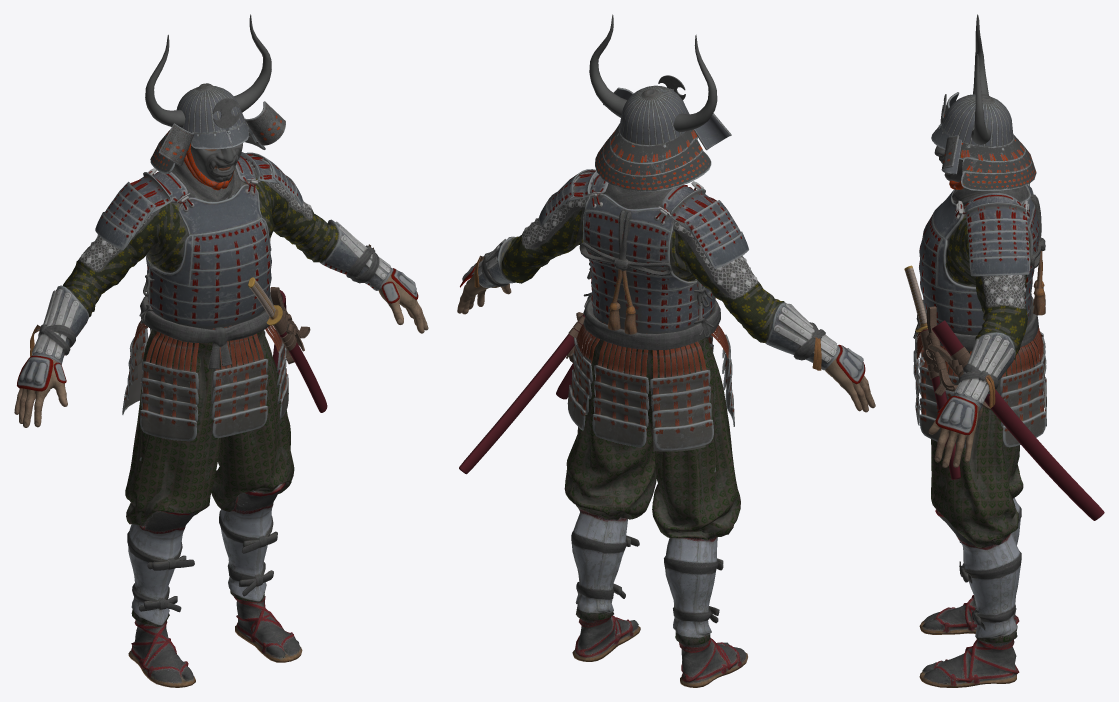
The model's file is Samurai.fbx.
3 views of the same model, side by side, from view 1: azimuth 30°, elevation 25°; view 2: azimuth 150°, elevation 25°; view 3: azimuth 270°, elevation 25° (orthographic). The views are drawn at different scales.
Parts seen in each view (by area): view 1: Torso, Legs, Skirt, Helmet, Sword, Hands; view 2: Torso, Legs, Skirt, Helmet, Sword, Hands; view 3: Torso, Legs, Helmet, Sword, Skirt, Hands.
Boxes of the visible parts, x1,y1,x2,y2 form: Torso: (17, 152, 418, 391); Legs: (125, 329, 302, 687); Skirt: (30, 244, 373, 441); Helmet: (145, 14, 285, 190); Sword: (248, 277, 327, 412); Hands: (14, 273, 428, 427); Torso: (460, 169, 865, 384); Legs: (564, 337, 747, 687); Skirt: (474, 255, 821, 451); Helmet: (589, 14, 731, 191); Sword: (459, 312, 590, 474); Hands: (457, 274, 875, 412); Torso: (913, 183, 1045, 434); Legs: (919, 344, 1030, 687); Helmet: (931, 14, 1036, 190); Sword: (904, 265, 1104, 520); Skirt: (913, 249, 1046, 448); Hands: (928, 404, 979, 467).
Bounding box in the file's own units: 1.39 × 2.06 × 0.6043.
Materials: 8 (8 with a texture image).
